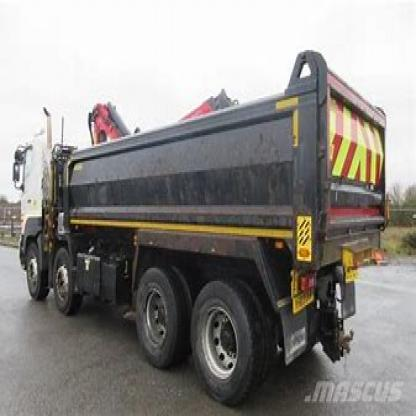dump_truck: (12, 41, 378, 401)
